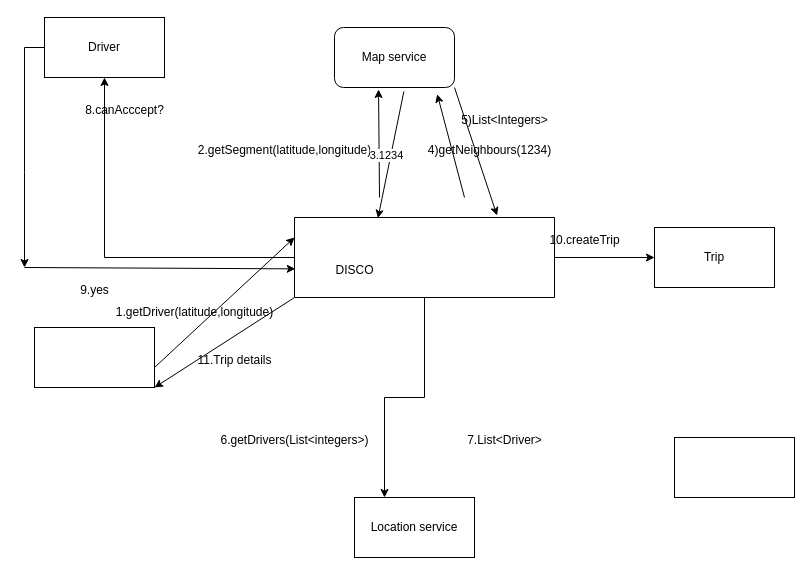
Some shapes in this 812 by 575 pixel diagram are drawn without their labels. The shapes that lost their labels are listed below. From the top down, each one's box as (x1, y1, x2, y2) in pixels, then its label:
(34, 326, 154, 388): Rider
(674, 436, 794, 498): Payment
